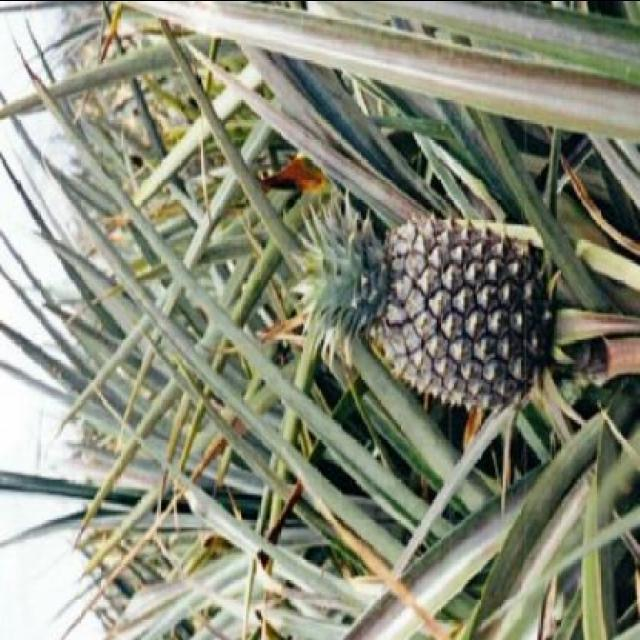Pineapple: (289, 183, 557, 415)
